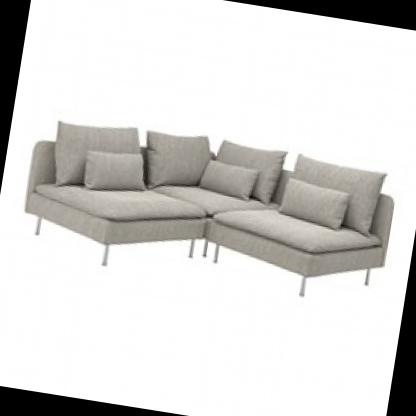Sofa: (4, 84, 408, 326)
